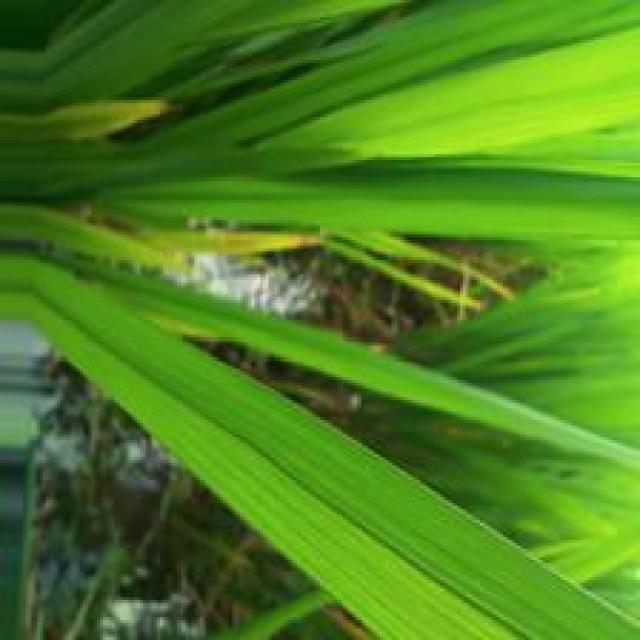HealthyLeaf: (67, 308, 640, 638), (295, 170, 558, 238)
